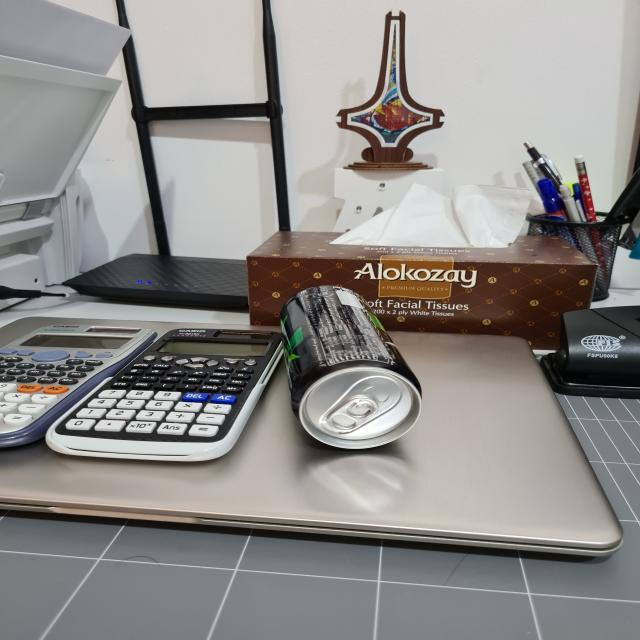non-organic waste: (278, 283, 428, 454)
